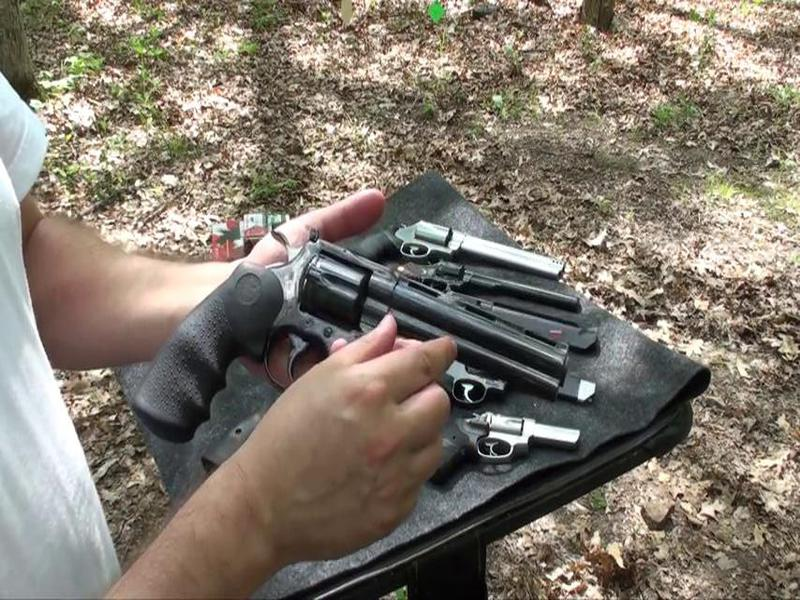Revolver: (140, 232, 611, 460)
